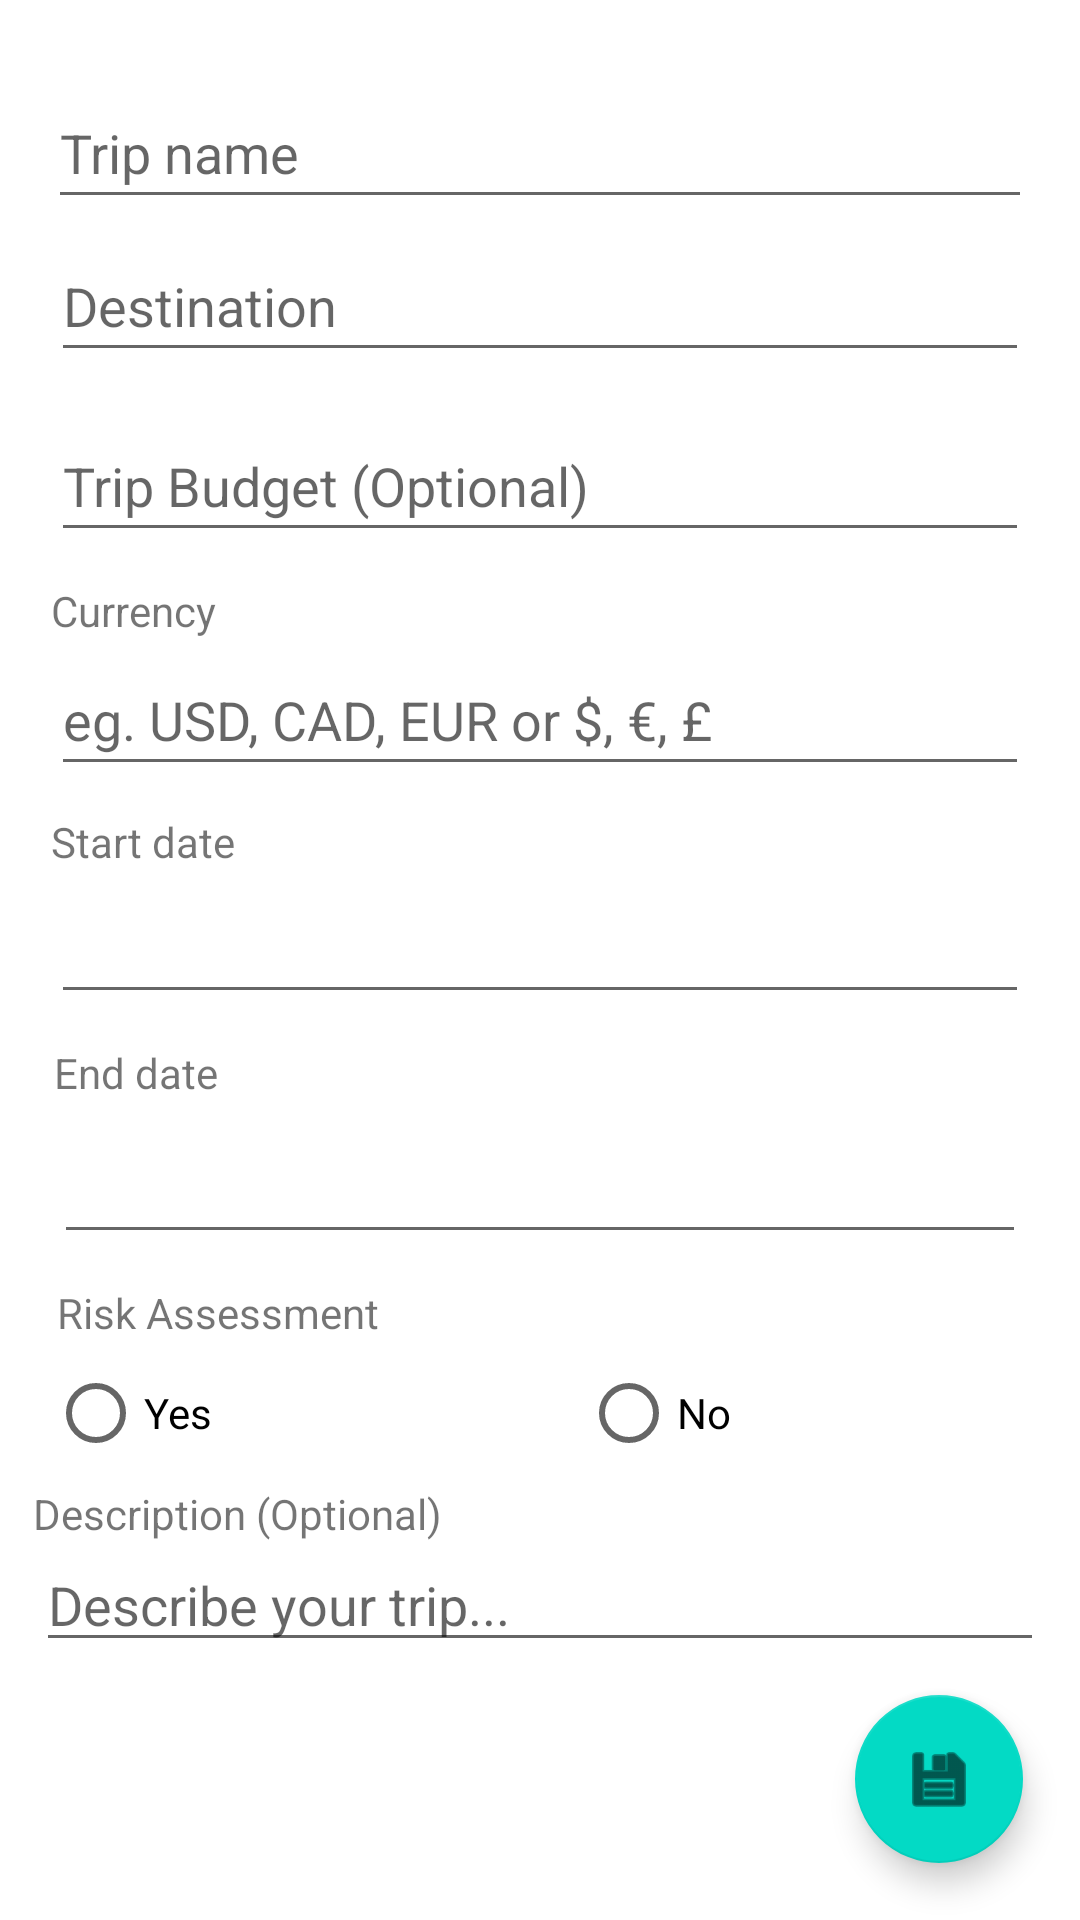

Icon click points for this 1080x1920 phone screenshot, format point (x, y):
save: point (939, 1779)
